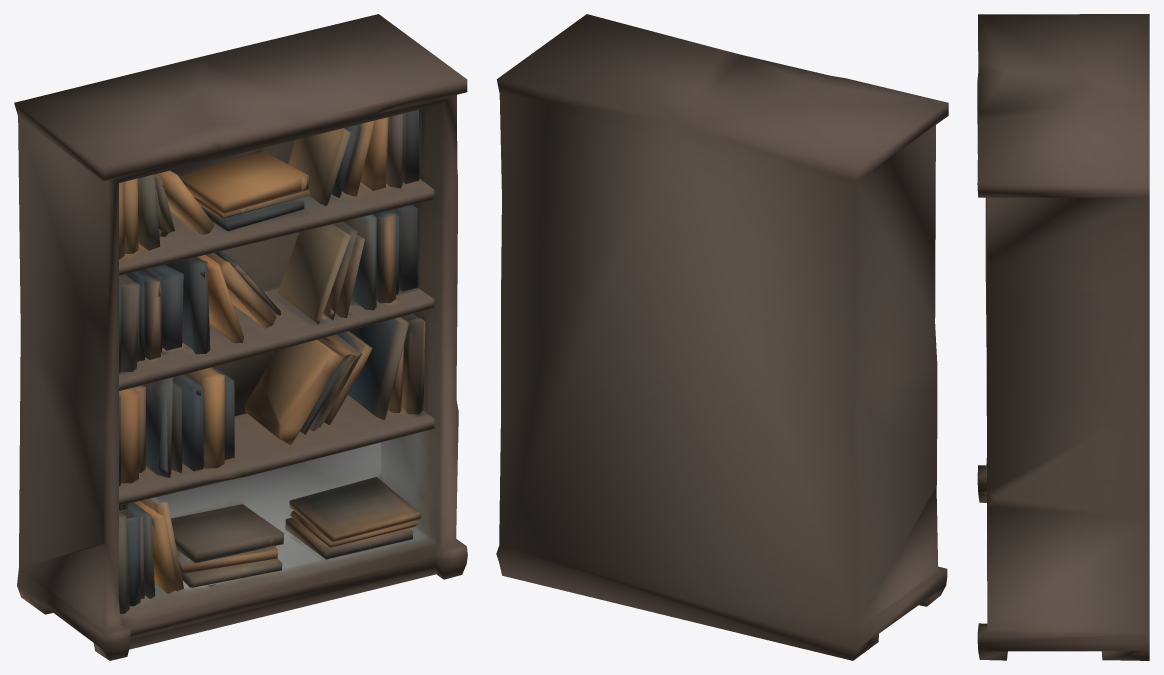
Rendered from bookcase.glb.
3 views of the same model, side by side, from view 1: azimuth 30°, elevation 25°; view 2: azimuth 150°, elevation 25°; view 3: azimuth 270°, elevation 25° (orthographic). The views are drawn at different scales.
Parts seen in each view (by area): view 1: bookcase_LOD0; view 2: bookcase_LOD0; view 3: bookcase_LOD0.
Boxes of the visible parts, x1=… form: bookcase_LOD0: x1=14, y1=14, x2=467, y2=660; bookcase_LOD0: x1=496, y1=14, x2=948, y2=660; bookcase_LOD0: x1=977, y1=14, x2=1149, y2=660.
Size of what is drawn, in the model's own units: 1.46 by 1.9 by 0.6202.
1 material, 1 textured.
